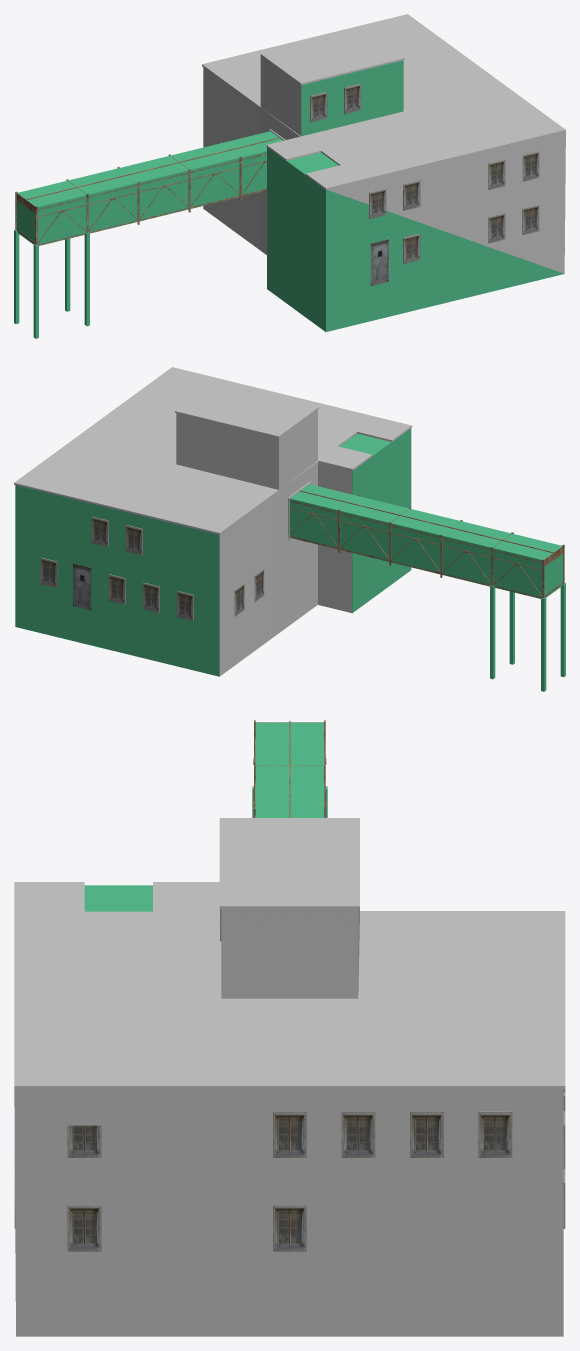
The model's file is ind_bld_07.dae.
3 views of the same model, one above another, from view 1: azimuth 30°, elevation 25°; view 2: azimuth 150°, elevation 25°; view 3: azimuth 270°, elevation 25° (orthographic). The views are drawn at different scales.
Parts seen in each view (by area): view 1: Colmesh-1, ind_bld_c300, nd_bld_c50, ind_bld_c80; view 2: Colmesh-1, ind_bld_c300, nd_bld_c50, ind_bld_c80; view 3: nd_bld_c50, ind_bld_c300, ind_bld_c80, Colmesh-1.
Boxes of the visible parts, x1=… form: Colmesh-1: x1=14, y1=60, x2=563, y2=338; ind_bld_c300: x1=15, y1=14, x2=565, y2=338; nd_bld_c50: x1=203, y1=56, x2=565, y2=273; ind_bld_c80: x1=260, y1=29, x2=538, y2=285; Colmesh-1: x1=15, y1=428, x2=565, y2=691; ind_bld_c300: x1=14, y1=367, x2=564, y2=691; nd_bld_c50: x1=176, y1=410, x2=351, y2=676; ind_bld_c80: x1=40, y1=382, x2=351, y2=650; nd_bld_c50: x1=14, y1=909, x2=563, y2=1336; ind_bld_c300: x1=14, y1=720, x2=565, y2=1251; ind_bld_c80: x1=67, y1=818, x2=511, y2=1251; Colmesh-1: x1=84, y1=722, x2=350, y2=950.
Size of the model in its own units: 27.15 by 16.13 by 11.25.
